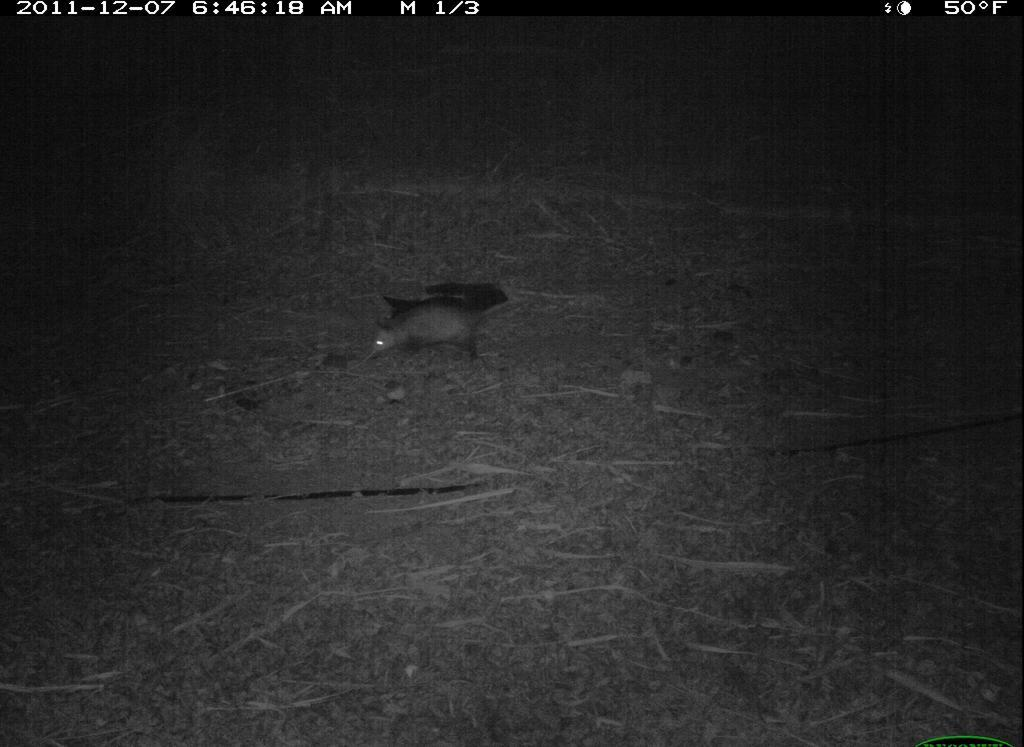opossum: (361, 286, 539, 378)
